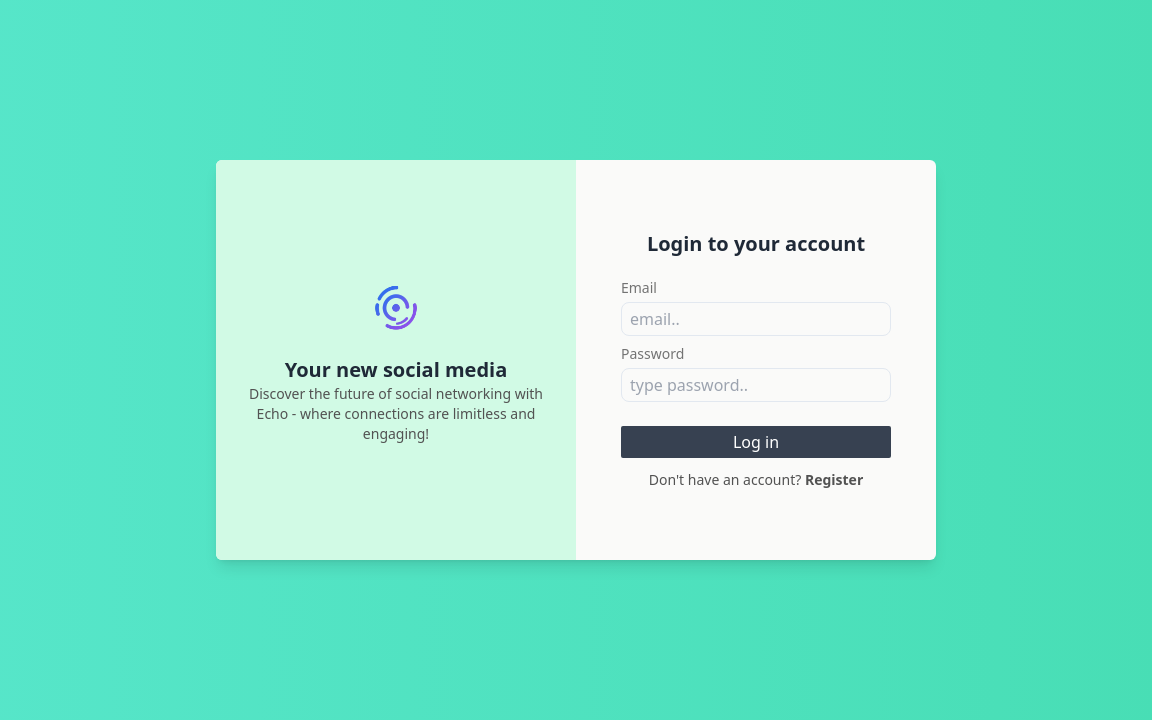
Test: Login spec › should display text danger when email & password is empty
The width and height of the screenshot is (1152, 720).
Click the button "Log in" at (756, 442), box top-left (621, 426), bottom-right (891, 458)
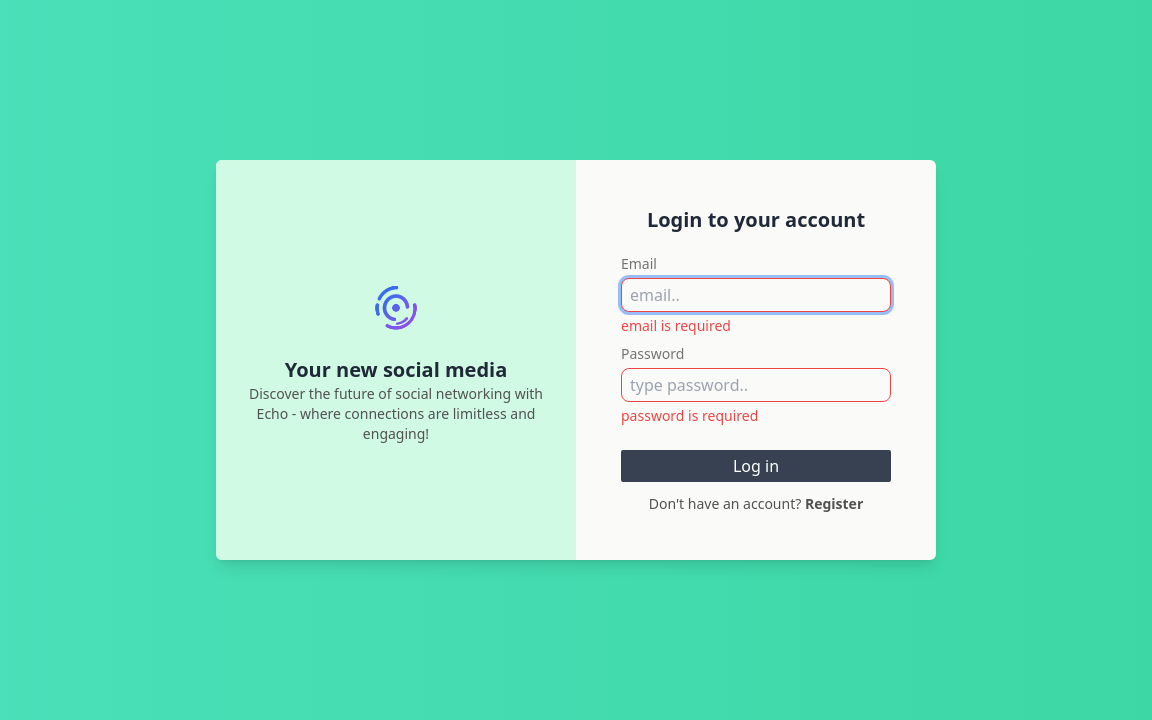
Check: the text "email is required" is shown, box top-left (621, 316), bottom-right (731, 335)
Check: the text "password is required" is shown, box top-left (621, 406), bottom-right (758, 425)
